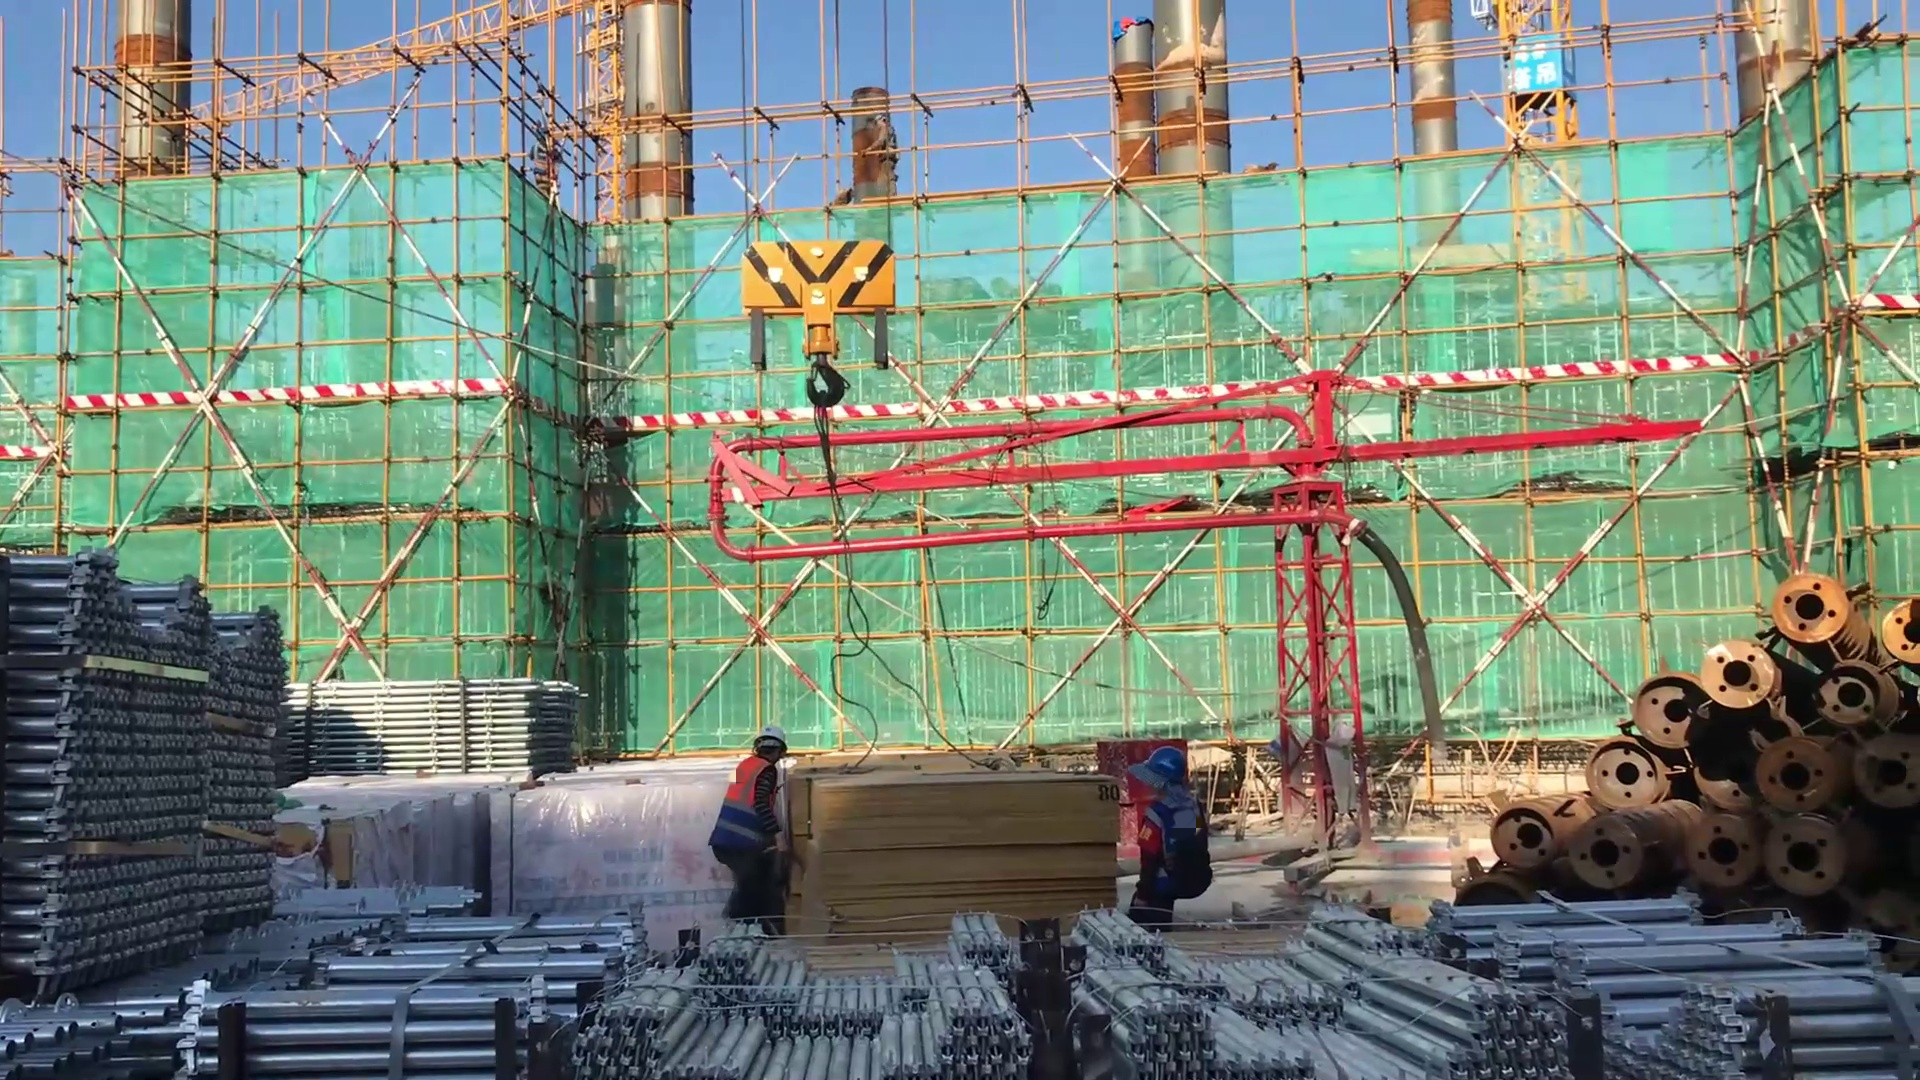board: (802, 762, 1120, 947)
helmet: (1131, 733, 1200, 795), (751, 723, 793, 776)
hook: (744, 220, 920, 457)
person: (704, 712, 796, 949), (1117, 739, 1223, 941), (860, 104, 912, 206)
scaffold: (1, 560, 287, 983), (1059, 910, 1569, 1080), (1440, 899, 1915, 1080), (1, 882, 444, 1075), (563, 905, 1025, 1080), (250, 905, 659, 1080), (283, 663, 584, 785)
vest: (1136, 794, 1216, 913), (707, 752, 777, 866)
